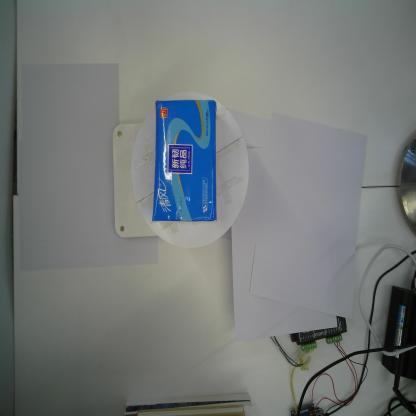Tissue: (151, 99, 218, 223)
